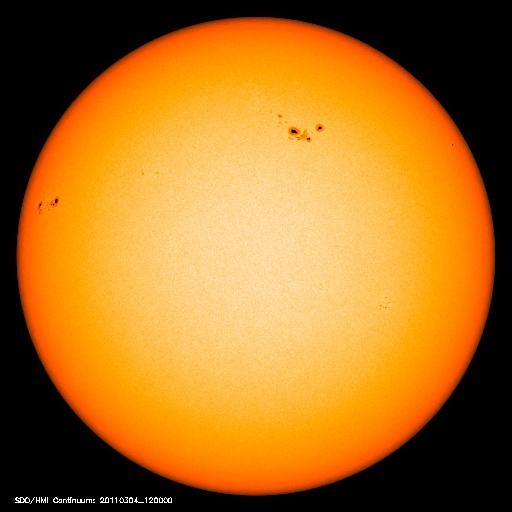sunspot: (269, 103, 328, 149), (29, 190, 66, 221), (132, 163, 167, 183)
